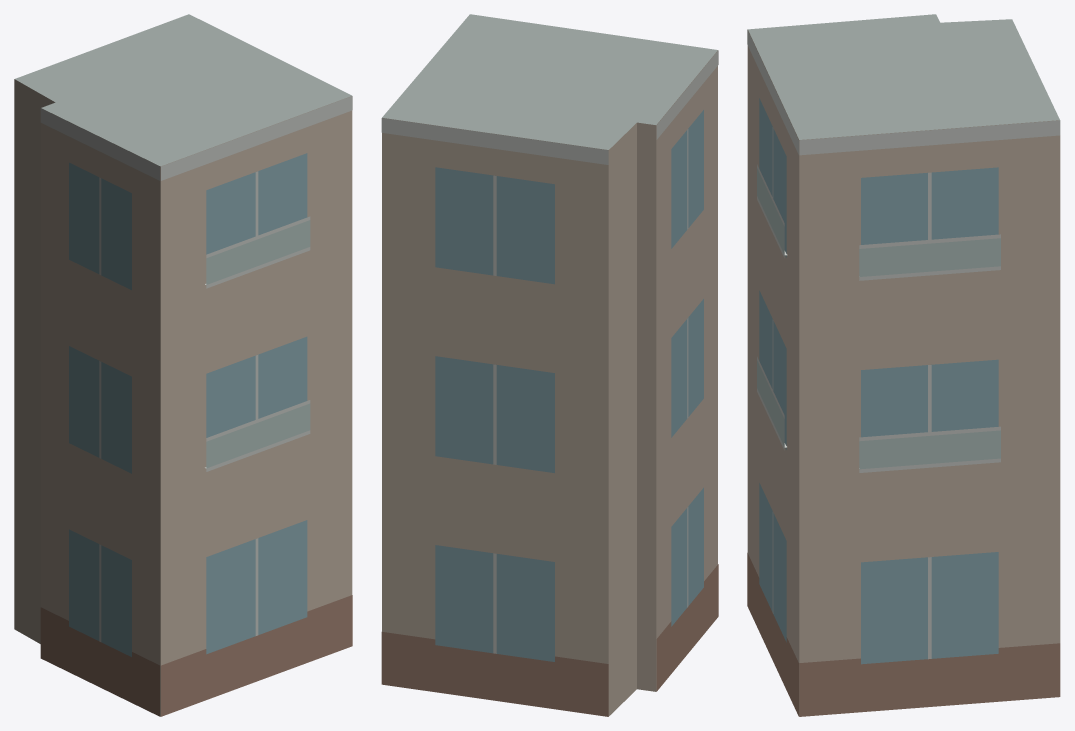
The model's file is survey-upis-33024877.glb.
3 renders of one model, left to right at view 1: azimuth 30°, elevation 25°; view 2: azimuth 150°, elevation 25°; view 3: azimuth 270°, elevation 25°, orthographic. The views are drawn at different scales.
Visible parts, largest first — view 1: survey-upis-33024877.tmp; view 2: survey-upis-33024877.tmp; view 3: survey-upis-33024877.tmp.
Boxes of the visible parts, x1,y1,x2,y2 form: survey-upis-33024877.tmp: (14, 14, 352, 716); survey-upis-33024877.tmp: (381, 14, 718, 716); survey-upis-33024877.tmp: (747, 14, 1060, 716).
Bounding box in the file's own units: 4.3 × 9.15 × 4.5.
